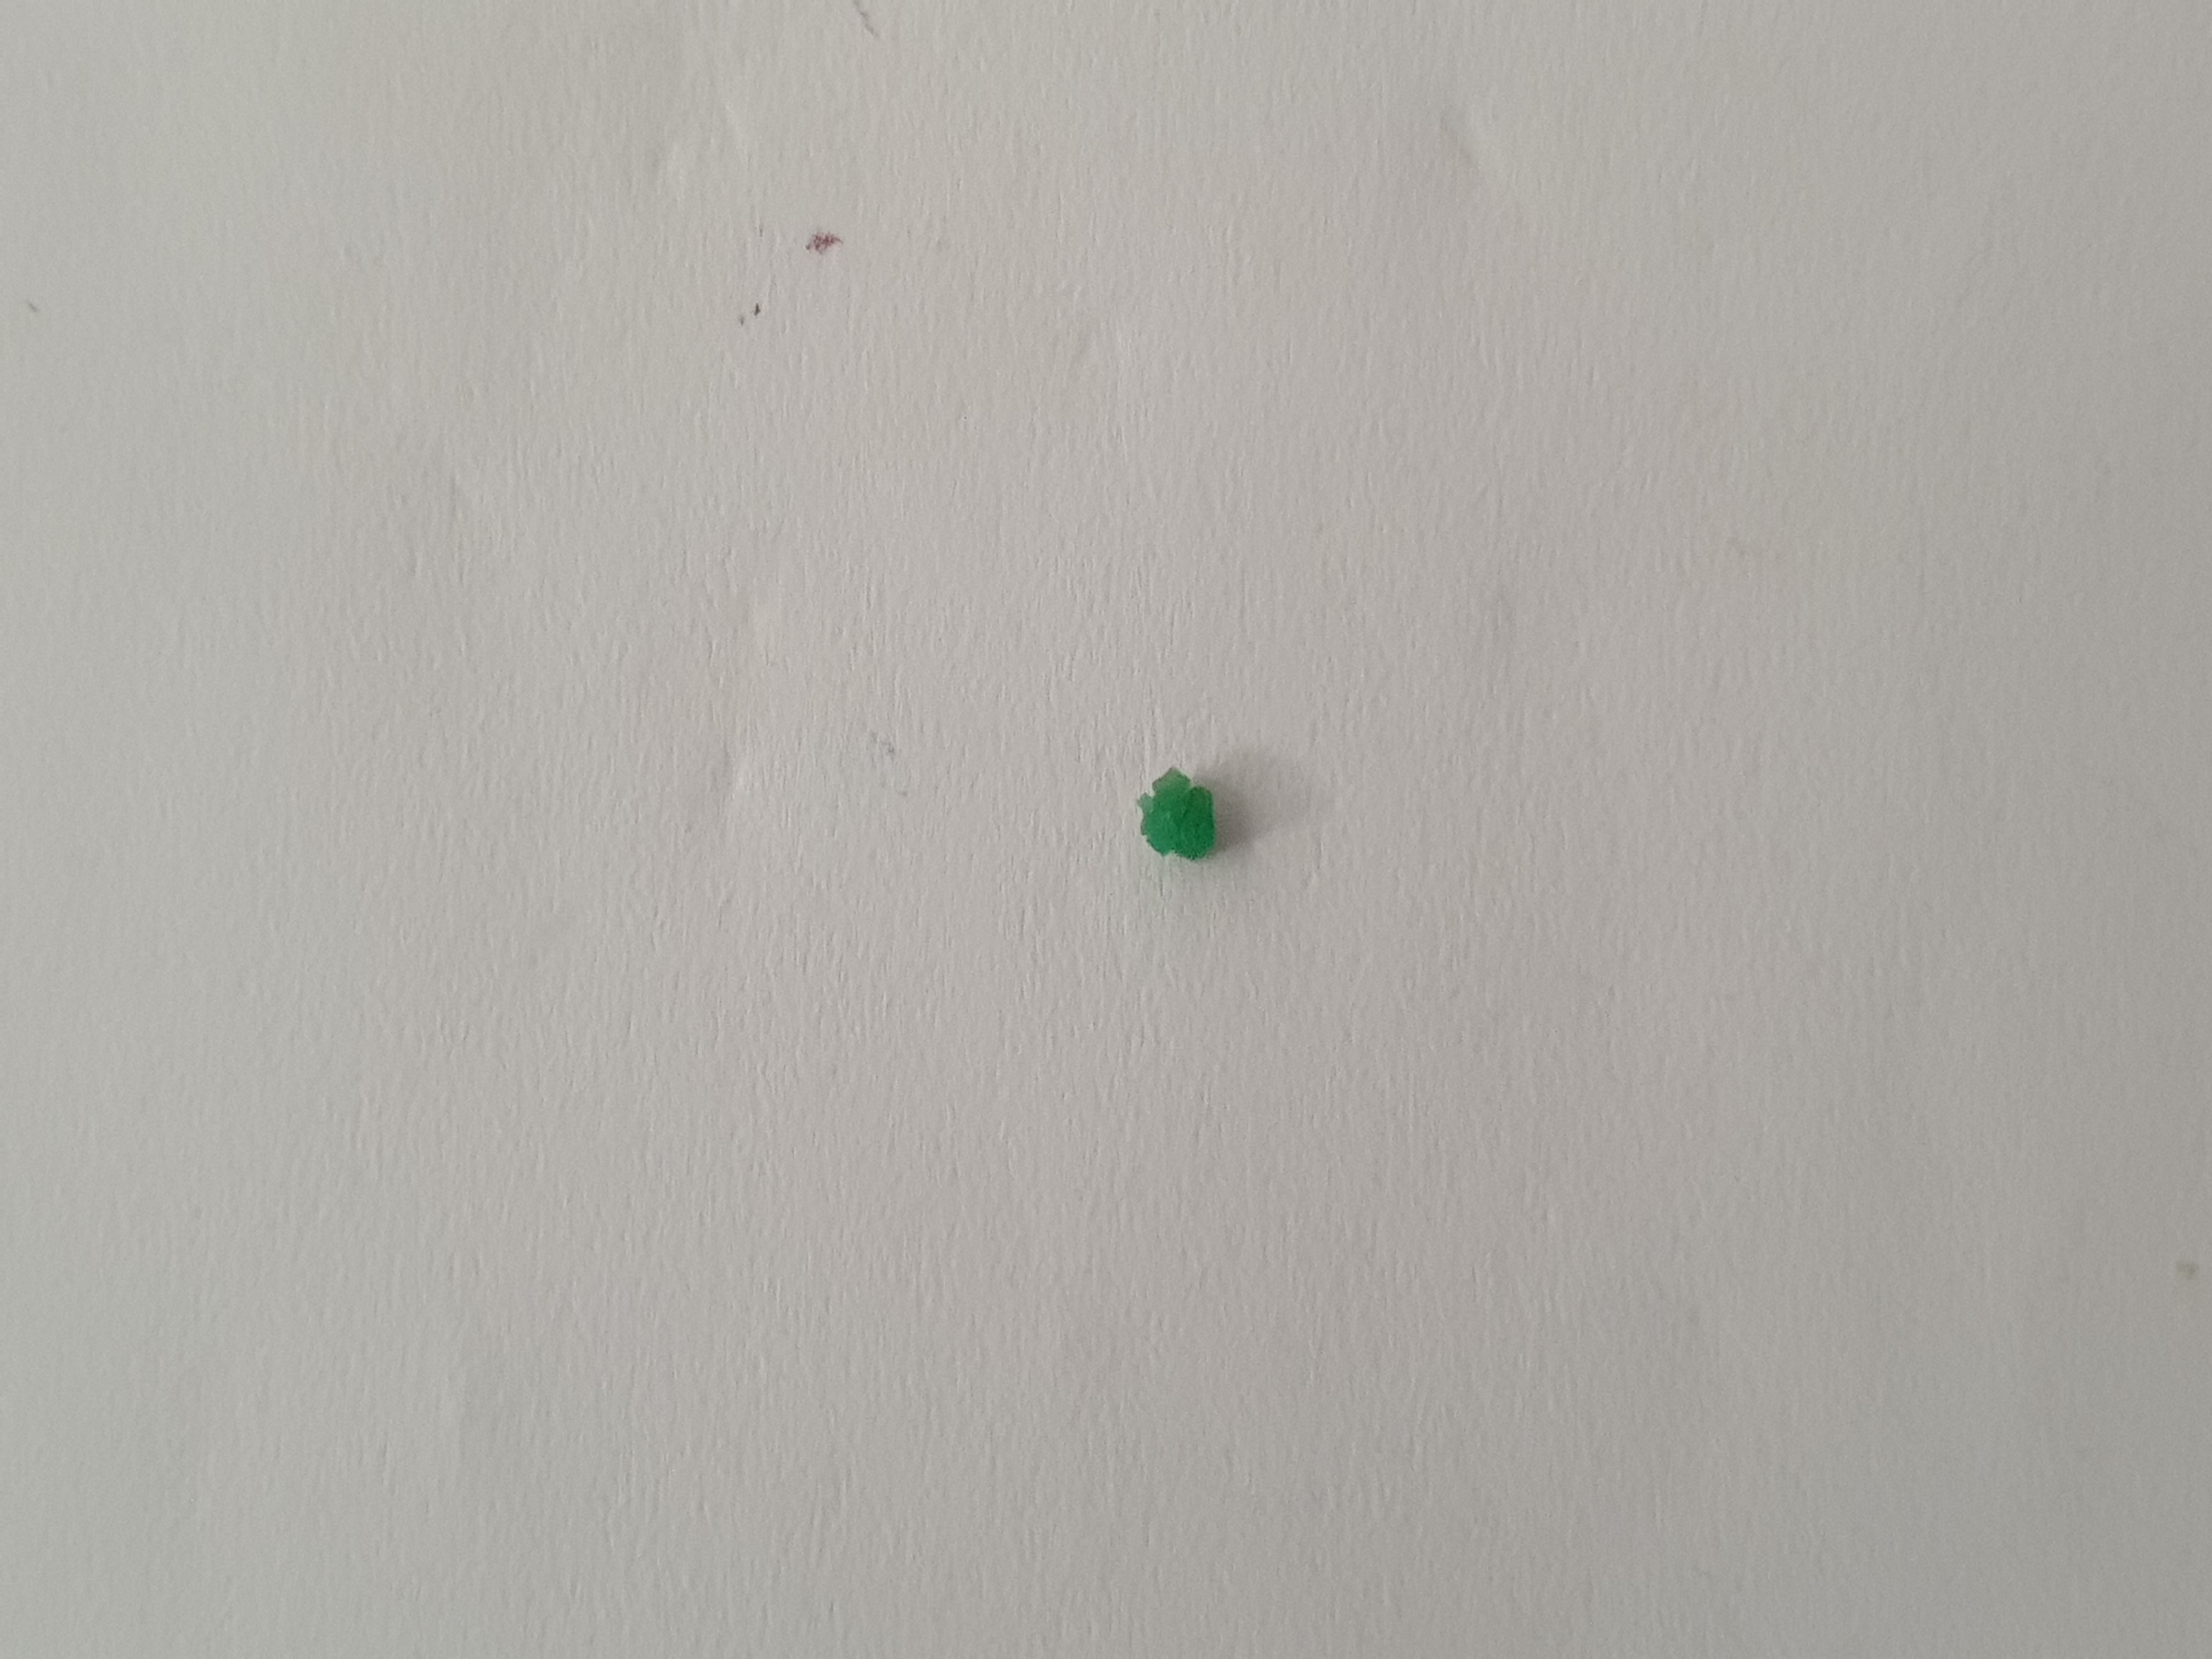plastic: (1127, 751, 1231, 889)
